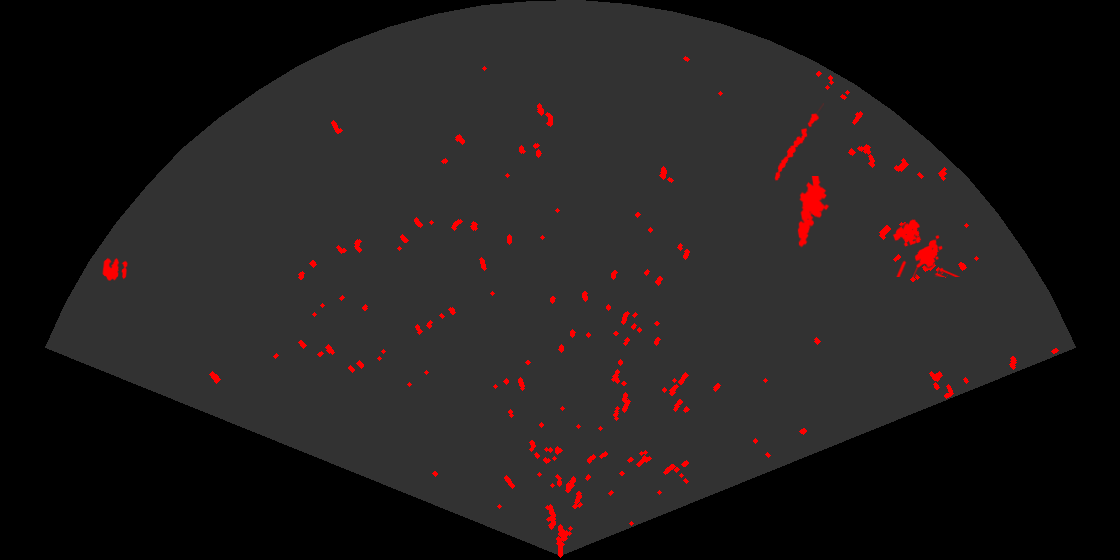ball: (101, 256, 129, 282)
cage: (891, 218, 960, 277)
chain: (773, 103, 824, 182)
frogman: (796, 176, 831, 248)
